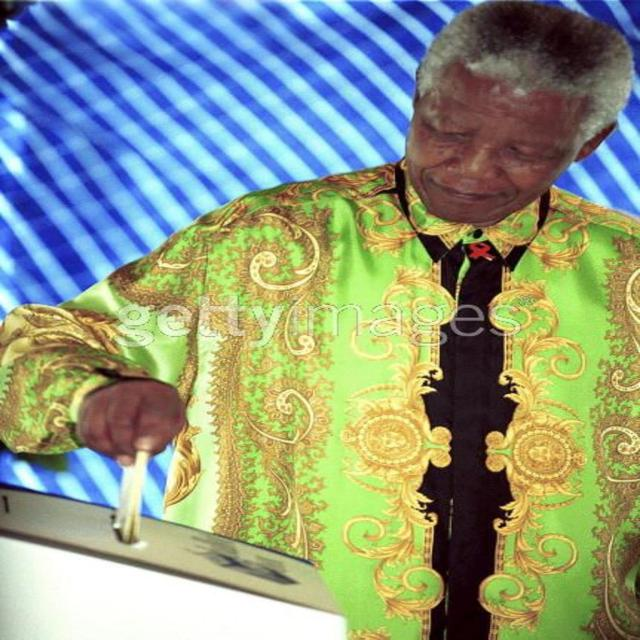Face: (372, 47, 609, 228)
